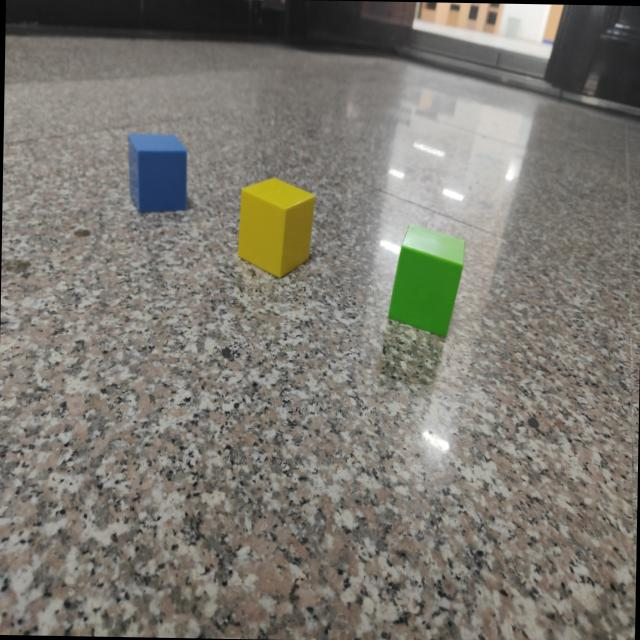blue: (126, 133, 188, 217)
green: (387, 226, 464, 340)
yellow: (236, 179, 316, 279)
